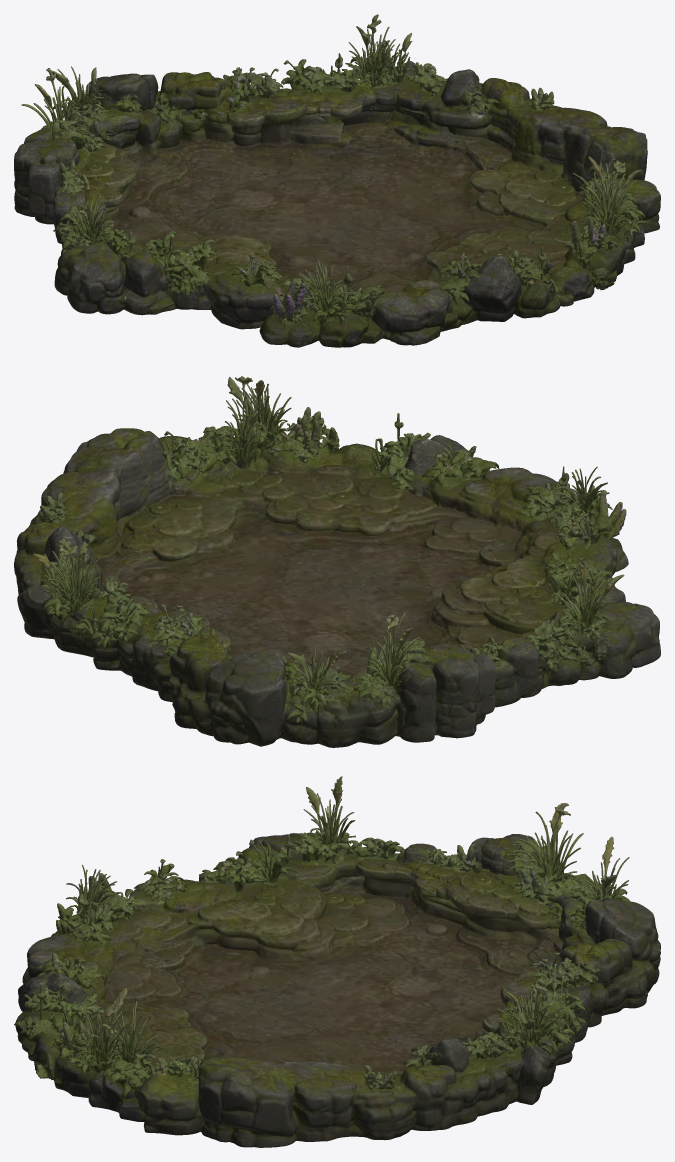
File: Meshy_AI_enchanted_pond_landma_0823035029_image-to-3d-texture.glb
3 renders of one model, top to bottom at view 1: azimuth 30°, elevation 25°; view 2: azimuth 150°, elevation 25°; view 3: azimuth 270°, elevation 25°, orthographic. The views are drawn at different scales.
Visible parts, largest first — view 1: mesh_node; view 2: mesh_node; view 3: mesh_node.
Part boxes in pixels (<box>): mesh_node: <box>14,14,660,347</box>; mesh_node: <box>14,376,660,747</box>; mesh_node: <box>14,776,660,1147</box>.
Size of the model in its own units: 1.9 by 0.3762 by 1.83.
1 material, 1 textured.
